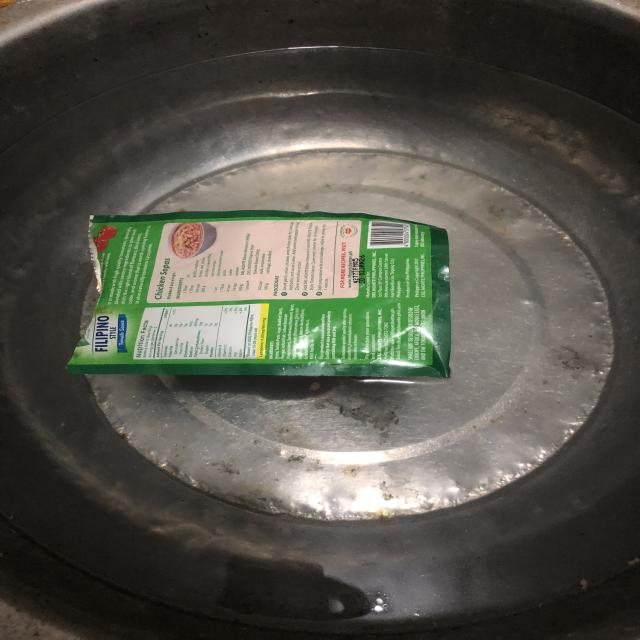Plastic Pouch: (45, 184, 482, 408)
